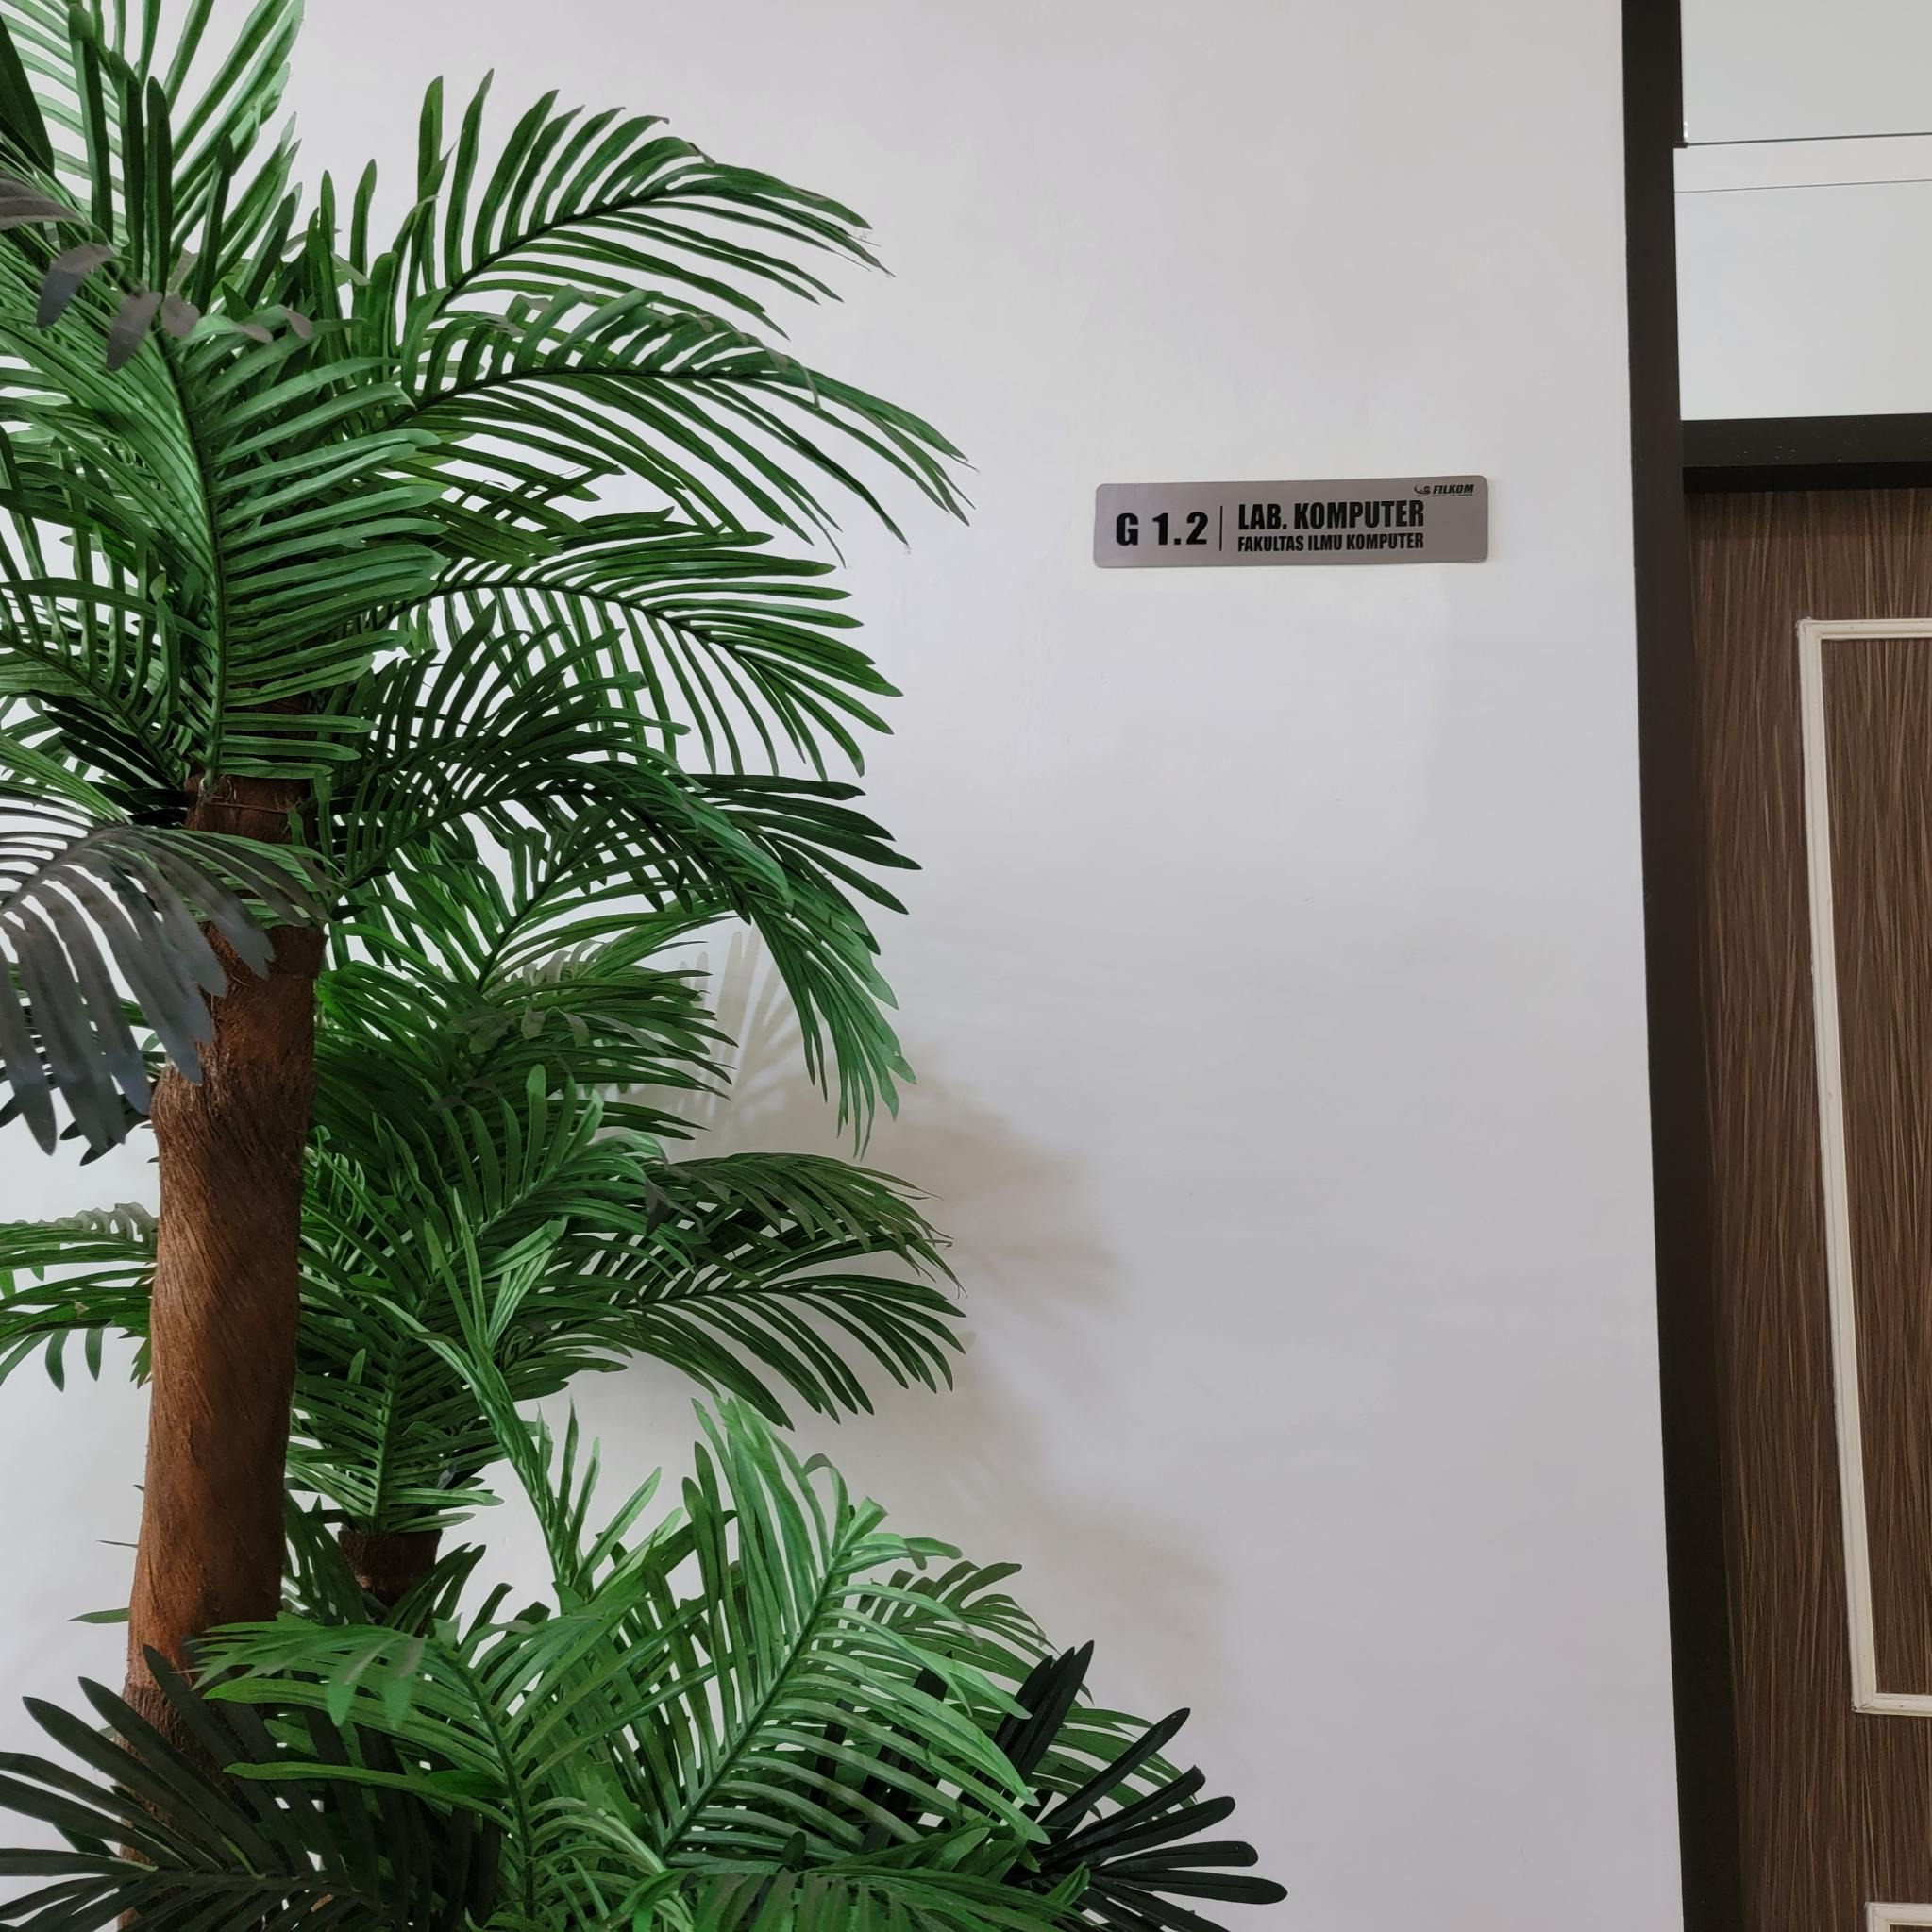plate: (1093, 476, 1490, 570)
